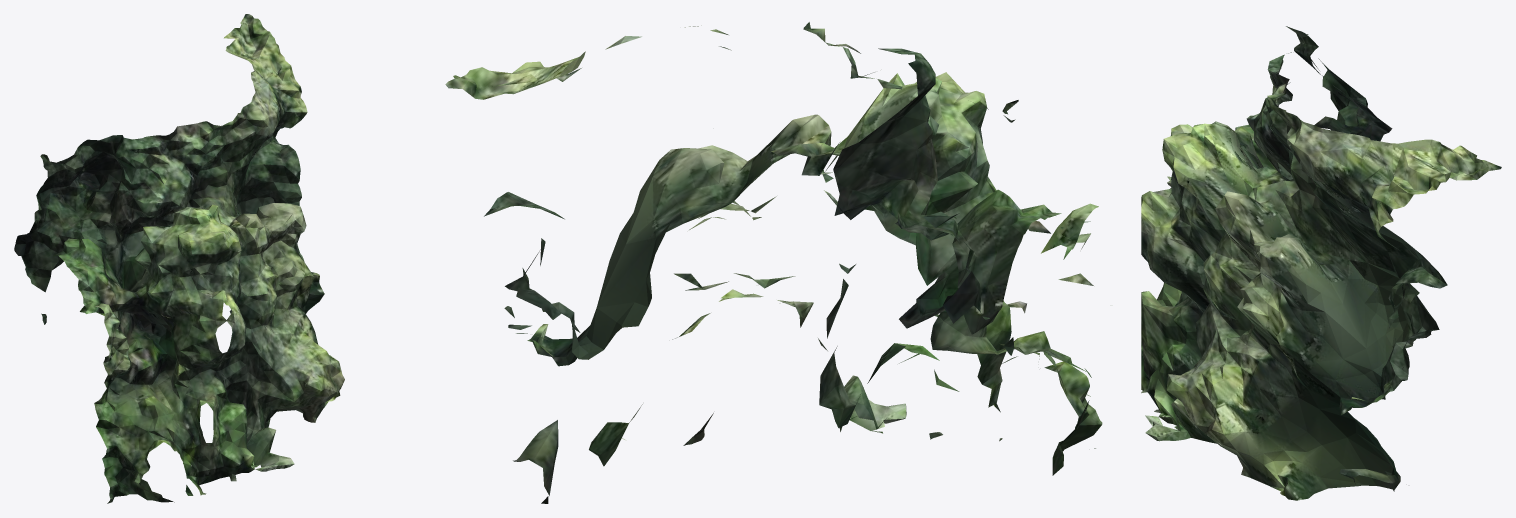
3 renders of one model, left to right at view 1: azimuth 30°, elevation 25°; view 2: azimuth 150°, elevation 25°; view 3: azimuth 270°, elevation 25°, orthographic. The views are drawn at different scales.
Bounding box in the file's own units: 26.11 × 26.11 × 25.53.
5 materials, 5 textured.
